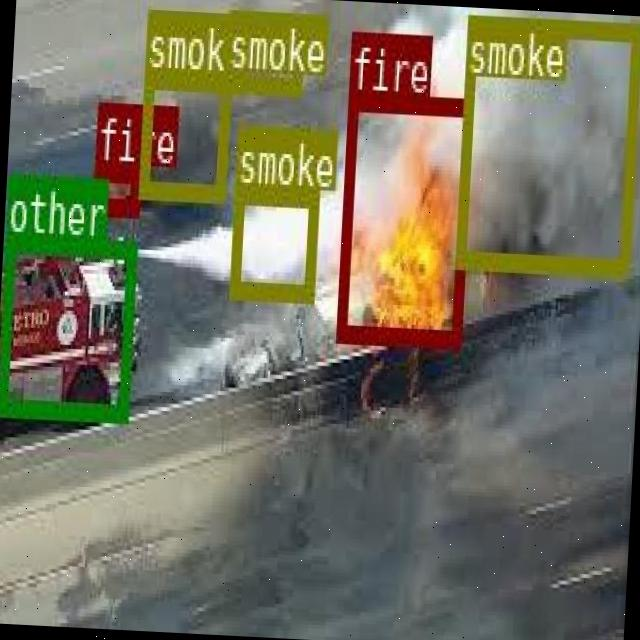fire: (336, 92, 473, 344), (93, 162, 139, 213)
smoke: (454, 13, 639, 273), (138, 70, 230, 200), (227, 185, 318, 298), (225, 8, 304, 94)
